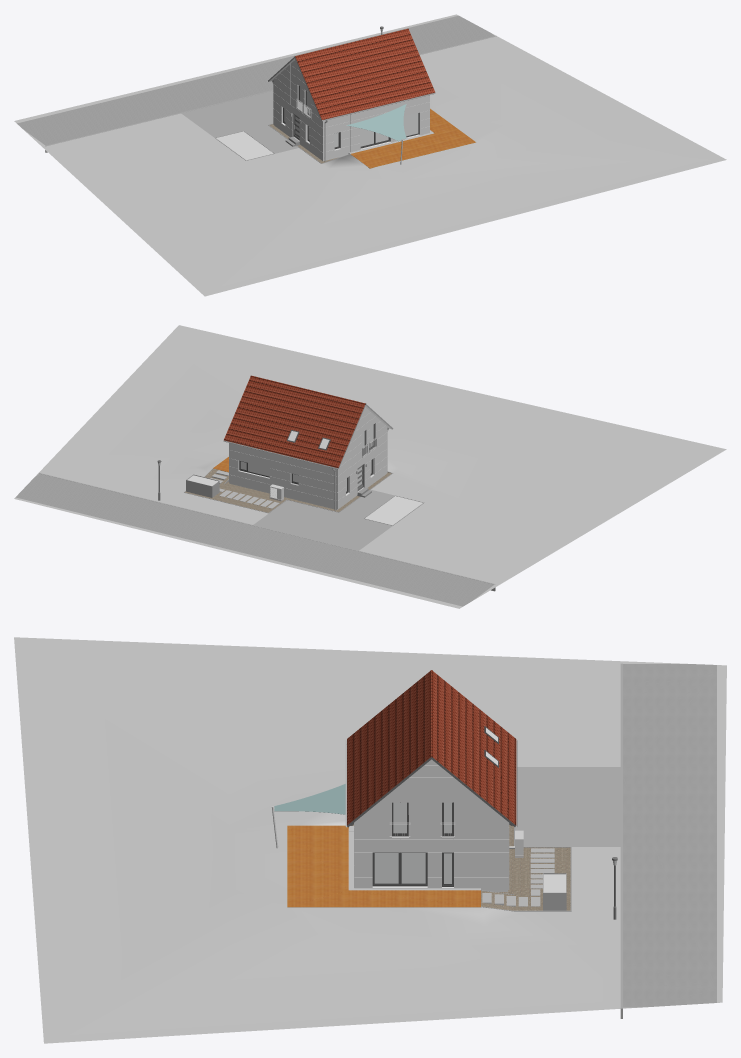
The model's file is building_003.dae.
3 renders of one model, top to bottom at view 1: azimuth 30°, elevation 25°; view 2: azimuth 150°, elevation 25°; view 3: azimuth 270°, elevation 25°, orthographic. The views are drawn at different scales.
Visible parts, largest first — view 1: ground, _Subregio1, roof_000, _Subregio0, Floor_Terr, plane_wall_001, plane_wall_000, plane_wall_004, Allgemein1_001, _Subregio2, plane_wall_005; view 2: ground, _Subregio1, roof_000, _Subregio0, plane_wall_003, plane_wall_000, _Subregion, plane_wall_004, _Subregio2, plane_wall_007, Allgemein7, Allgemein4 (+1 smaller); view 3: ground, _Subregio1, roof_000, _Subregio0, Floor_Terr, plane_wall_006, plane_wall_002, _Subregion, LUXHAUS_-0, Allgemein6, Allgemein1_001, Allgemein7 (+2 smaller).
Part boxes in pixels (<box>): ground: <box>14,14,726,296</box>; _Subregio1: <box>17,15,494,145</box>; roof_000: <box>268,29,435,120</box>; _Subregio0: <box>181,91,298,153</box>; Floor_Terr: <box>351,108,475,168</box>; plane_wall_001: <box>322,102,429,160</box>; plane_wall_000: <box>273,92,322,159</box>; plane_wall_004: <box>273,59,322,127</box>; Allgemein1_001: <box>346,104,406,164</box>; _Subregio2: <box>216,131,273,160</box>; plane_wall_005: <box>322,95,429,127</box>; ground: <box>14,325,726,608</box>; _Subregio1: <box>15,473,493,606</box>; roof_000: <box>223,376,392,468</box>; _Subregio0: <box>253,489,394,550</box>; plane_wall_003: <box>229,450,337,508</box>; plane_wall_000: <box>337,440,387,508</box>; _Subregion: <box>185,468,391,512</box>; plane_wall_004: <box>337,407,387,475</box>; _Subregio2: <box>365,496,422,525</box>; plane_wall_007: <box>229,443,337,476</box>; Allgemein7: <box>38,473,495,591</box>; Allgemein4: <box>186,474,219,497</box>; ground: <box>14,637,726,1043</box>; _Subregio1: <box>623,664,716,1007</box>; roof_000: <box>347,671,516,826</box>; _Subregio0: <box>515,767,620,846</box>; Floor_Terr: <box>287,825,480,907</box>; plane_wall_006: <box>354,759,508,839</box>; plane_wall_002: <box>354,839,508,890</box>; _Subregion: <box>352,824,570,910</box>; LUXHAUS_-0: <box>372,852,427,888</box>; Allgemein6: <box>482,848,554,906</box>; Allgemein1_001: <box>271,784,345,848</box>; Allgemein7: <box>620,663,622,1018</box>.
Bounding box in the file's own units: 34.02 × 25.22 × 6.2.
80 materials, 7 textured.
